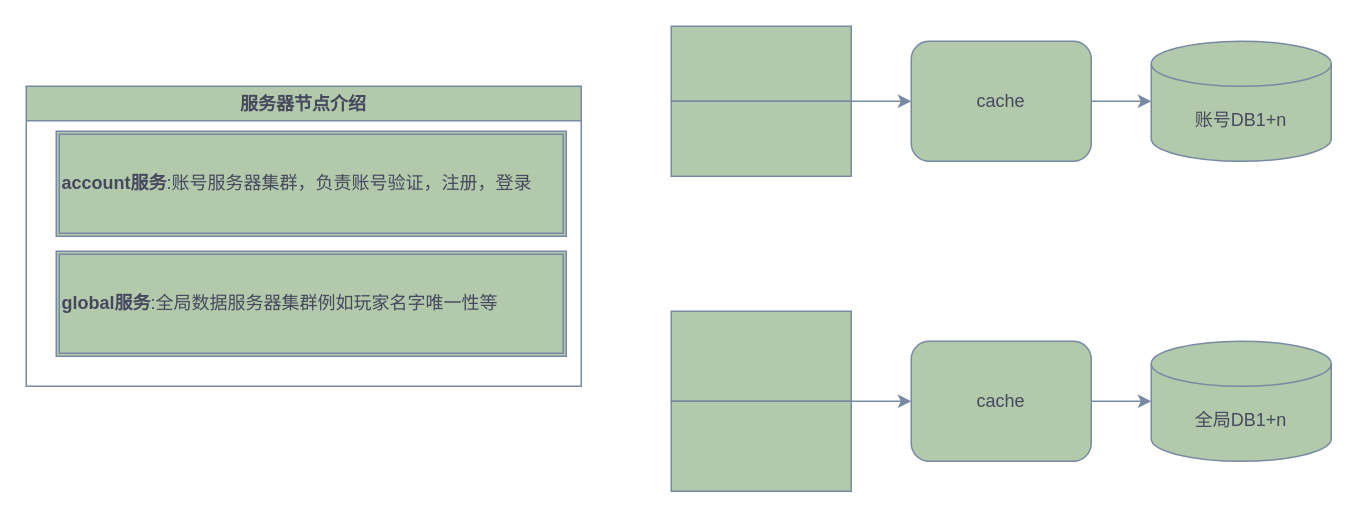
Image size: 1358x518. Some labels were removed from this diagram. Each missing label, with the centre of its shape:
"account1" belongs at pixel 760 63.
"accountn" belongs at pixel 760 138.
"global n" belongs at pixel 760 445.
"global1" belongs at pixel 760 355.
